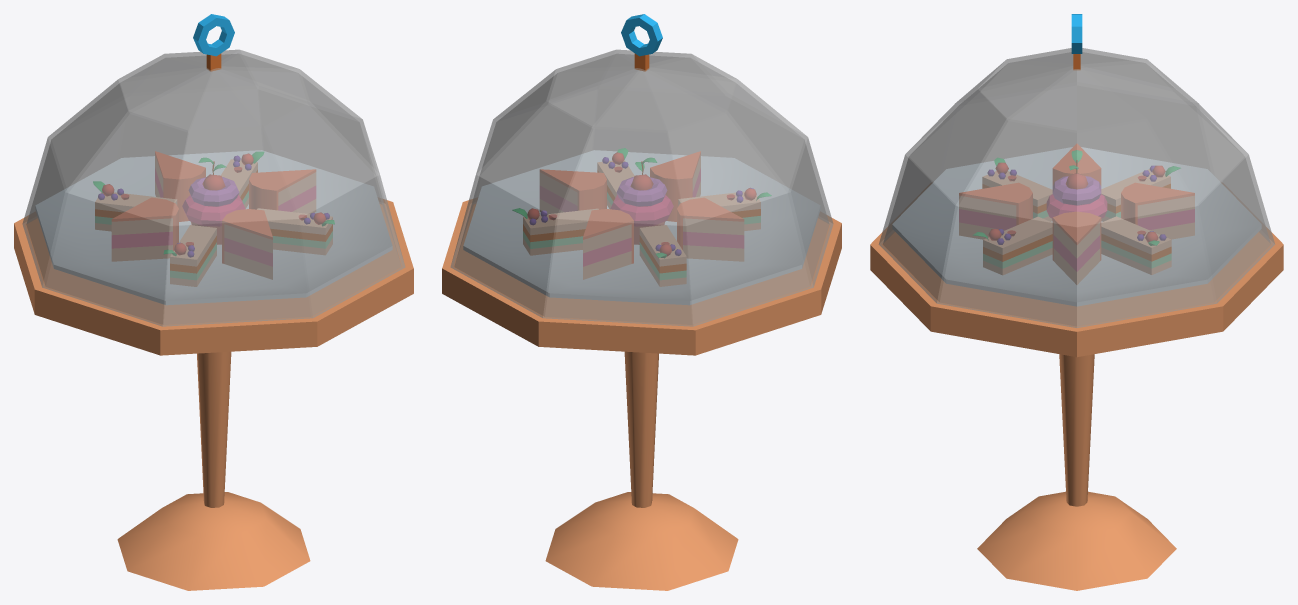
The model's file is Bakery lv1.fbx.
3 views of the same model, side by side, from view 1: azimuth 30°, elevation 25°; view 2: azimuth 150°, elevation 25°; view 3: azimuth 270°, elevation 25° (orthographic).
Parts seen in each view (by area): view 1: Bakery_lv1; view 2: Bakery_lv1; view 3: Bakery_lv1.
Part boxes in pixels (left/top/right/bottom): Bakery_lv1: left=14, top=14, right=413, bottom=590; Bakery_lv1: left=442, top=14, right=841, bottom=590; Bakery_lv1: left=870, top=14, right=1283, bottom=590.
Size of the model in its own units: 189 by 270 by 189.
